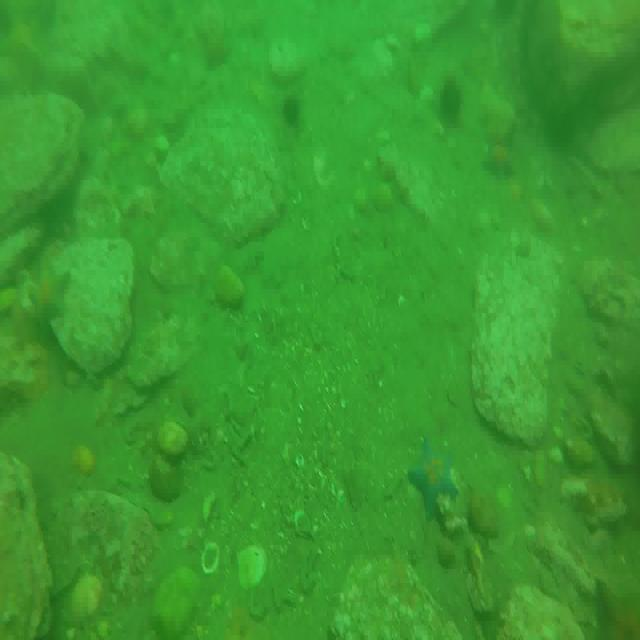echinus: (437, 70, 465, 126), (282, 93, 302, 128)
starfish: (410, 433, 458, 519), (590, 575, 640, 640), (30, 267, 70, 324), (482, 140, 514, 185)
